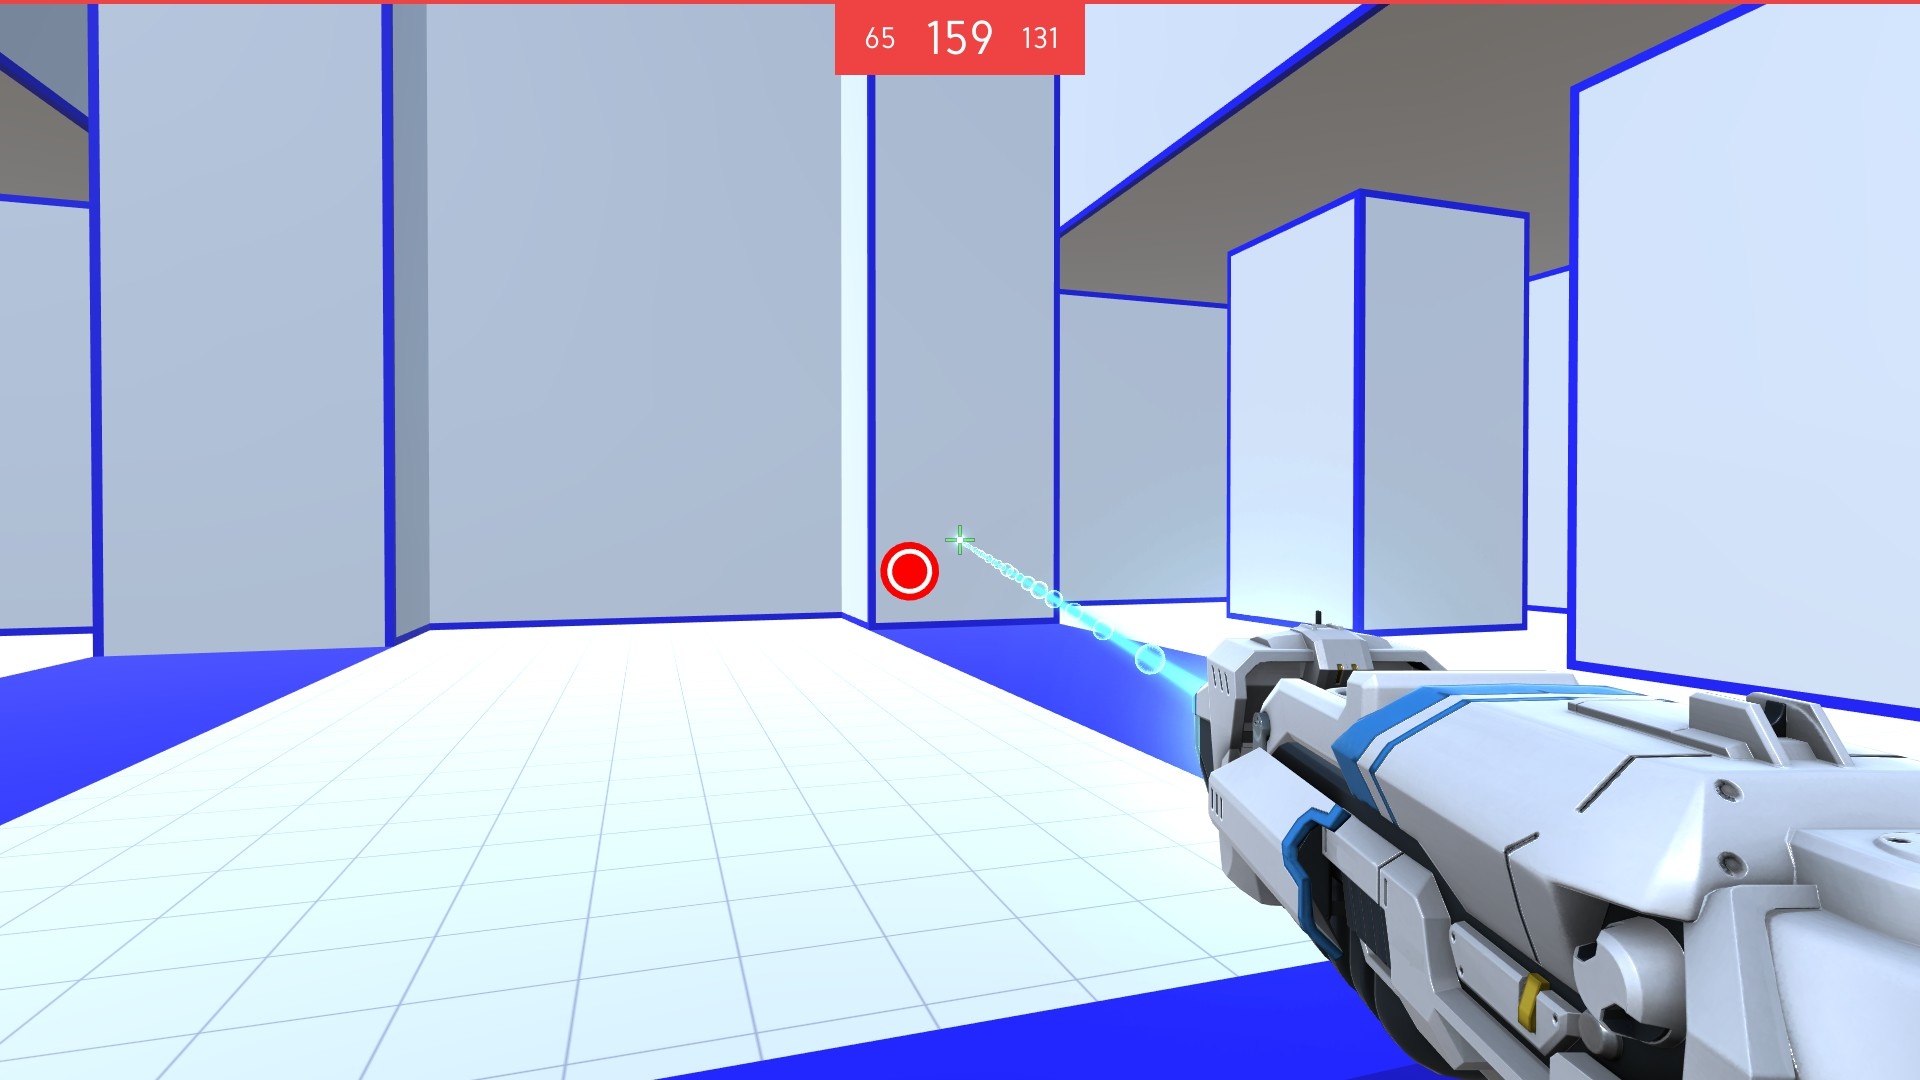target: (877, 538, 945, 604)
